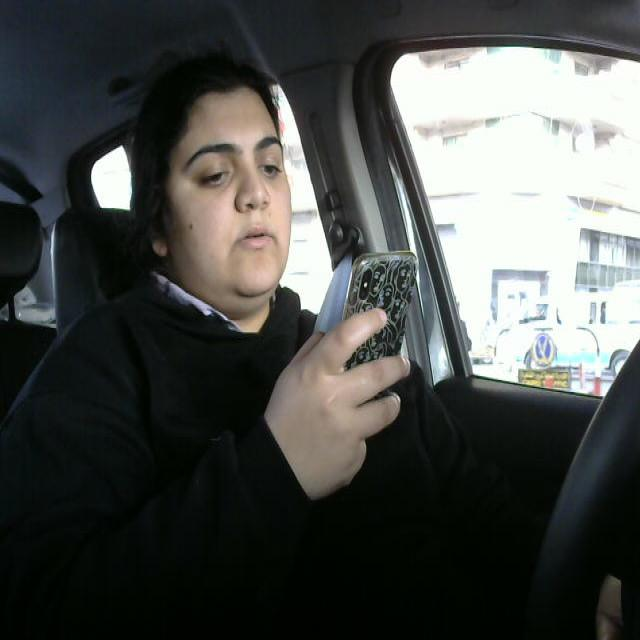mobile use: (344, 247, 427, 380)
